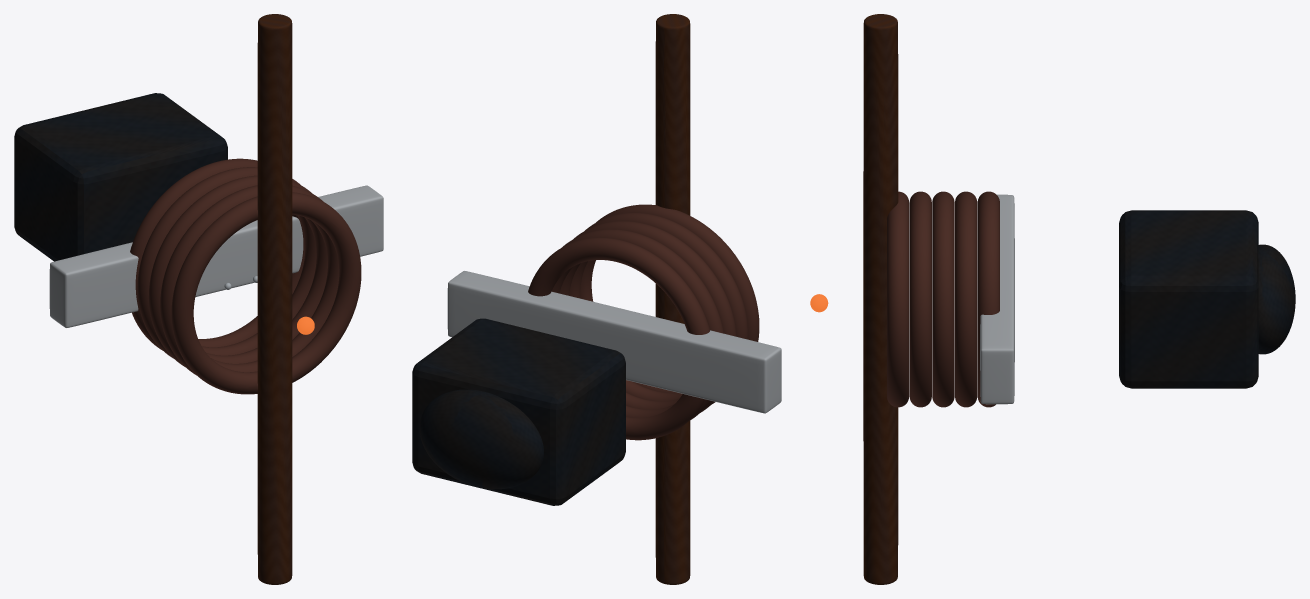
File: widow_maul.glb
3 renders of one model, left to right at view 1: azimuth 30°, elevation 25°; view 2: azimuth 150°, elevation 25°; view 3: azimuth 270°, elevation 25°, orthographic.
Parts seen in each view (by area): view 1: Maul_Head, Maul_Handle, detail_weapon_guard, detail_weapon_wrap, detail_weapon_wrap.001, detail_weapon_wrap.003, detail_weapon_wrap.002, detail_weapon_wrap.004; view 2: Maul_Head, detail_weapon_guard, Maul_Handle, Maul_Cap, detail_weapon_wrap.004, detail_weapon_wrap.001, detail_weapon_wrap, detail_weapon_wrap.002, detail_weapon_wrap.003; view 3: Maul_Head, Maul_Handle, detail_weapon_guard, detail_weapon_wrap.003, detail_weapon_wrap.001, detail_weapon_wrap.002, detail_weapon_wrap, Maul_Cap, detail_weapon_wrap.004.
Part boxes in pixels (x1=…): Maul_Head: x1=14, y1=93, x2=227, y2=261; Maul_Handle: x1=257, y1=14, x2=292, y2=584; detail_weapon_guard: x1=49, y1=185, x2=383, y2=327; detail_weapon_wrap: x1=171, y1=192, x2=361, y2=394; detail_weapon_wrap.001: x1=160, y1=185, x2=339, y2=375; detail_weapon_wrap.003: x1=137, y1=167, x2=316, y2=358; detail_weapon_wrap.002: x1=148, y1=175, x2=327, y2=367; detail_weapon_wrap.004: x1=130, y1=158, x2=305, y2=350; Maul_Head: x1=412, y1=318, x2=625, y2=505; detail_weapon_guard: x1=447, y1=271, x2=781, y2=413; Maul_Handle: x1=655, y1=14, x2=690, y2=584; Maul_Cap: x1=419, y1=389, x2=543, y2=489; detail_weapon_wrap.004: x1=528, y1=237, x2=709, y2=440; detail_weapon_wrap.001: x1=569, y1=213, x2=747, y2=403; detail_weapon_wrap: x1=580, y1=204, x2=759, y2=392; detail_weapon_wrap.002: x1=559, y1=221, x2=736, y2=412; detail_weapon_wrap.003: x1=551, y1=229, x2=723, y2=420; Maul_Head: x1=1119, y1=210, x2=1258, y2=388; Maul_Handle: x1=863, y1=14, x2=898, y2=584; detail_weapon_guard: x1=980, y1=194, x2=1014, y2=404; detail_weapon_wrap.003: x1=955, y1=191, x2=977, y2=407; detail_weapon_wrap.001: x1=909, y1=191, x2=931, y2=407; detail_weapon_wrap.002: x1=932, y1=191, x2=954, y2=407; detail_weapon_wrap: x1=887, y1=191, x2=909, y2=407; Maul_Cap: x1=1258, y1=244, x2=1295, y2=354; detail_weapon_wrap.004: x1=977, y1=191, x2=999, y2=407.
Size of the model in its own units: 1.8 by 3 by 2.36.
6 materials, 2 textured.
